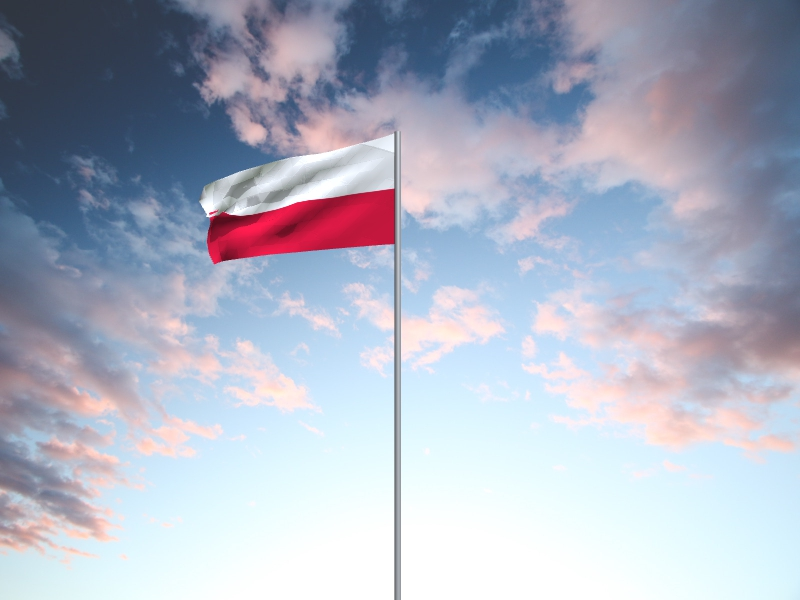pl: (199, 134, 395, 266)
